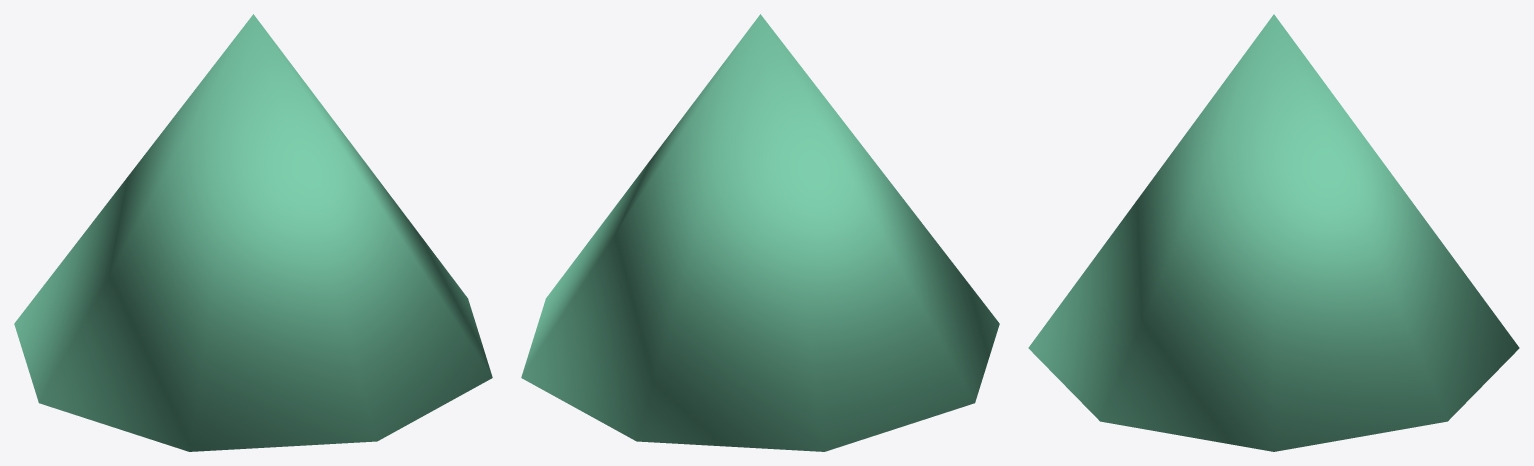
File: Mountain.fbx
3 views of the same model, side by side, from view 1: azimuth 30°, elevation 25°; view 2: azimuth 150°, elevation 25°; view 3: azimuth 270°, elevation 25° (orthographic).
Visible parts, largest first — view 1: Peak; view 2: Peak; view 3: Peak.
Boxes of the visible parts, box(x1,y1,x2,y2) form: Peak: box(14, 14, 492, 451); Peak: box(521, 14, 999, 451); Peak: box(1028, 14, 1519, 451).
Size of the model in its own units: 8 by 6 by 8.
